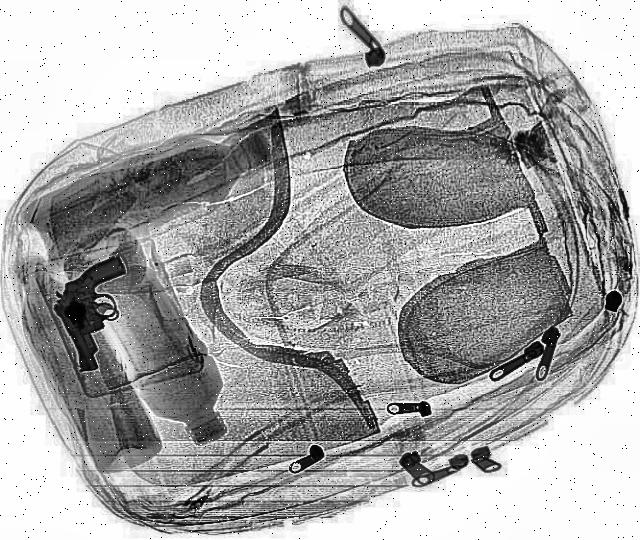Gun: (29, 255, 164, 371)
